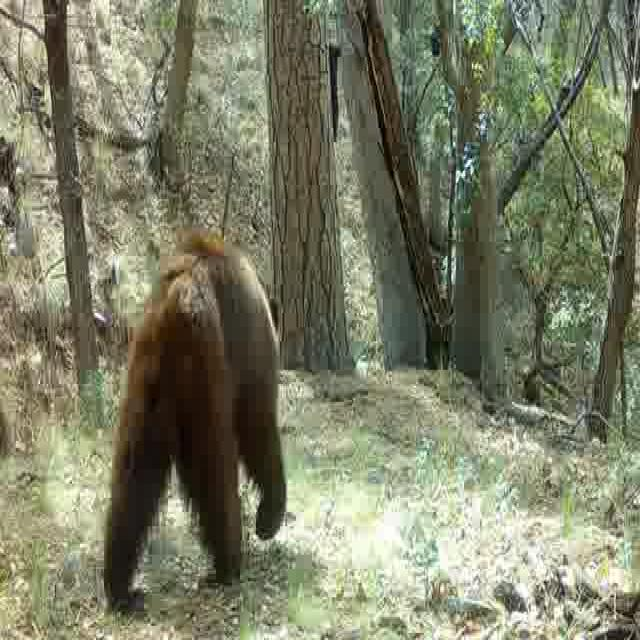bear face: (105, 233, 288, 609), (328, 38, 340, 143)
